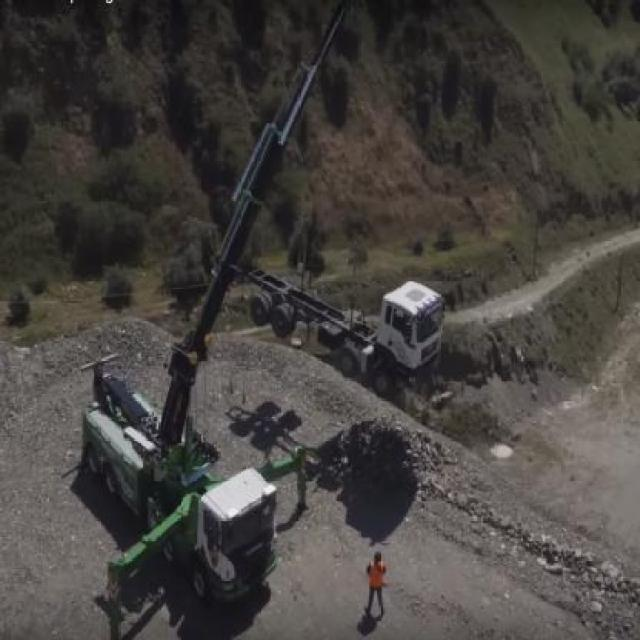Mobile Crane: (61, 1, 348, 639)
